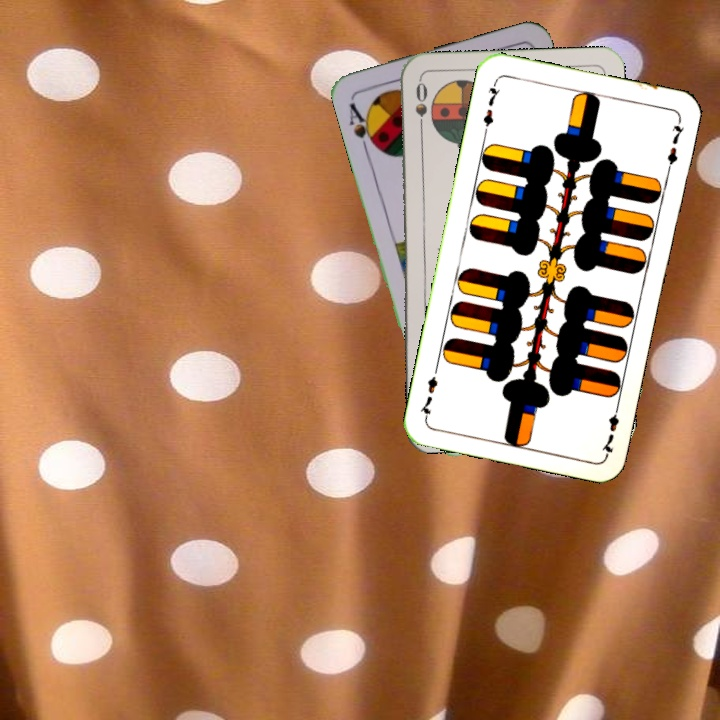E7: (597, 399, 622, 457), (479, 77, 503, 136)
SA: (345, 99, 380, 154)
SO: (411, 77, 430, 136)
